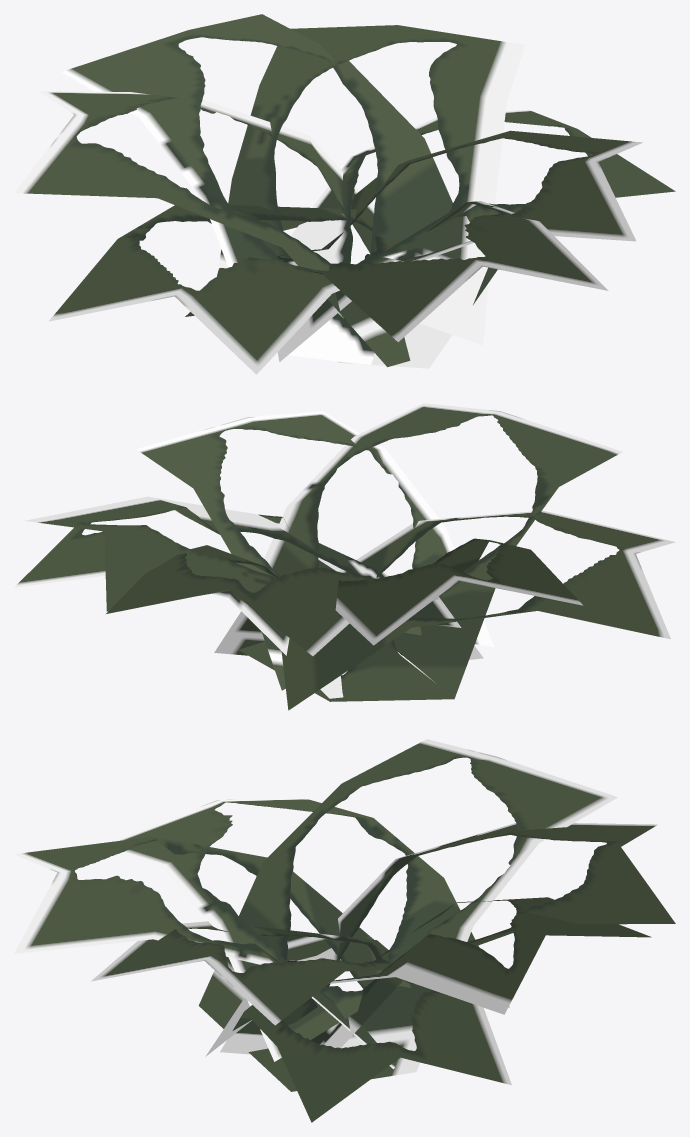
File: bush-01.fbx
3 renders of one model, top to bottom at view 1: azimuth 30°, elevation 25°; view 2: azimuth 150°, elevation 25°; view 3: azimuth 270°, elevation 25°, orthographic. The views are drawn at different scales.
Visible parts, largest first — view 1: bush_01; view 2: bush_01; view 3: bush_01.
Boxes of the visible parts, bbox=[...] form: bush_01: bbox=[14, 14, 675, 374]; bush_01: bbox=[14, 403, 675, 710]; bush_01: bbox=[14, 739, 675, 1122].
Size of the model in its own units: 208 by 72.51 by 195.
